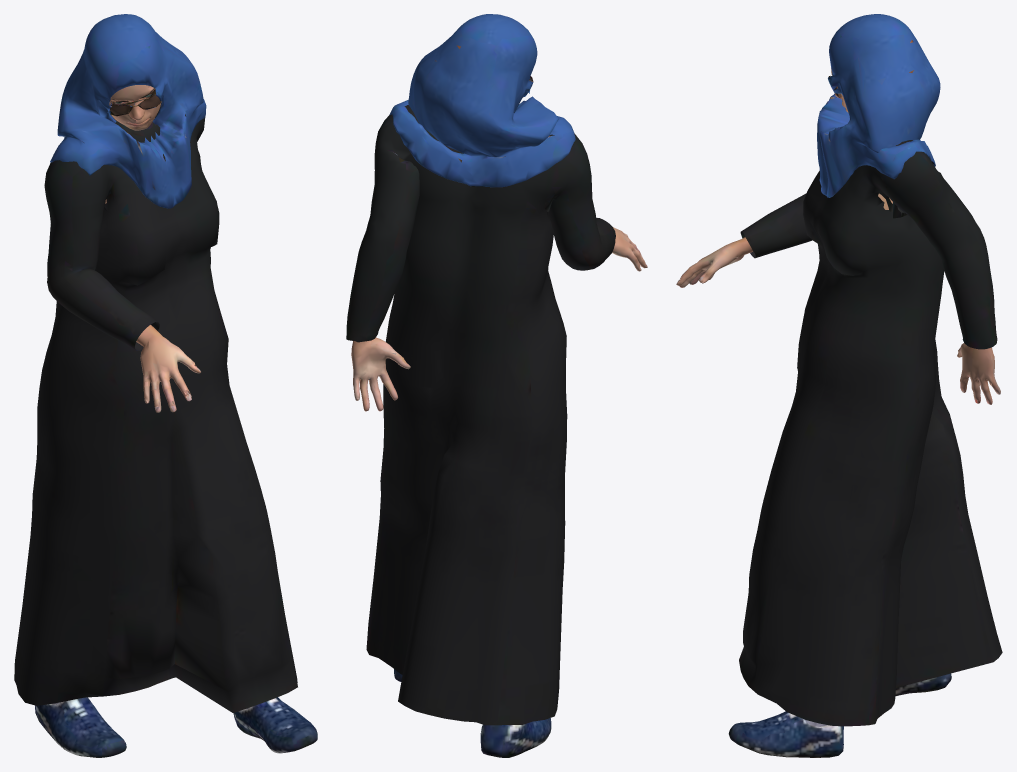
3 views of the same model, side by side, from view 1: azimuth 30°, elevation 25°; view 2: azimuth 150°, elevation 25°; view 3: azimuth 270°, elevation 25° (orthographic). The views are drawn at different scales.
Visible parts, largest first — view 1: hijabv3_w000; view 2: hijabv3_w000; view 3: hijabv3_w000.
Boxes of the visible parts, <box> form: hijabv3_w000: <box>14,14,317,757</box>; hijabv3_w000: <box>346,14,647,757</box>; hijabv3_w000: <box>676,14,1002,757</box>.
Size of the model in its own units: 0.5257 by 1.55 by 0.6612.
1 material, 1 textured.
